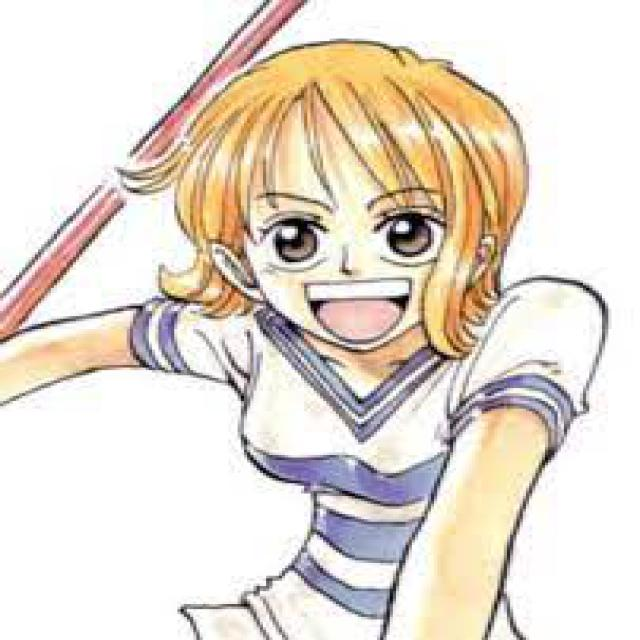Nami: (0, 41, 605, 640)
